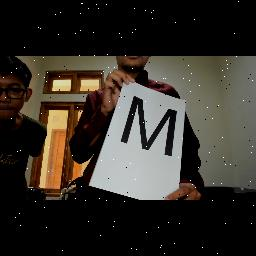m: (120, 95, 182, 161)
